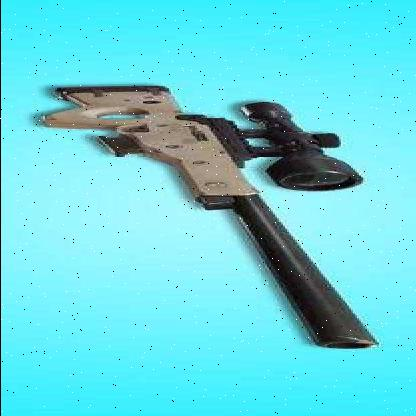rifle: (12, 76, 416, 362)
